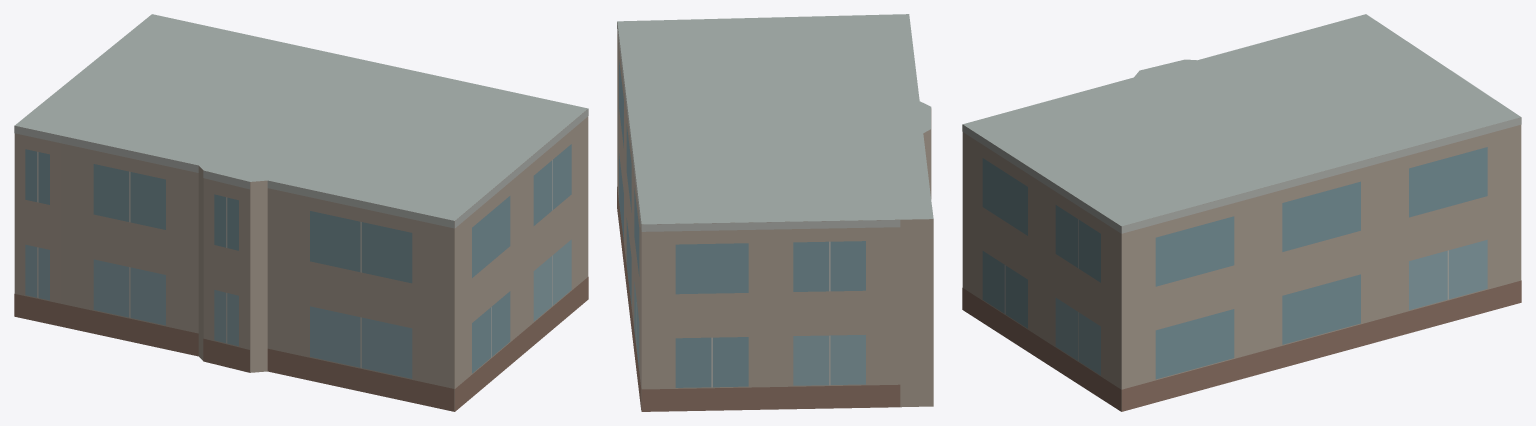
Rendered from survey-upis-32616195.glb.
3 renders of one model, left to right at view 1: azimuth 30°, elevation 25°; view 2: azimuth 150°, elevation 25°; view 3: azimuth 270°, elevation 25°, orthographic. The views are drawn at different scales.
Visible parts, largest first — view 1: survey-upis-32616195.tmp; view 2: survey-upis-32616195.tmp; view 3: survey-upis-32616195.tmp.
Boxes of the visible parts, x1,y1,x2,y2 form: survey-upis-32616195.tmp: (14,14,588,411); survey-upis-32616195.tmp: (617,14,933,411); survey-upis-32616195.tmp: (962,14,1521,411).
Bounding box in the file's own units: 14.99 × 6.1 × 16.67.
